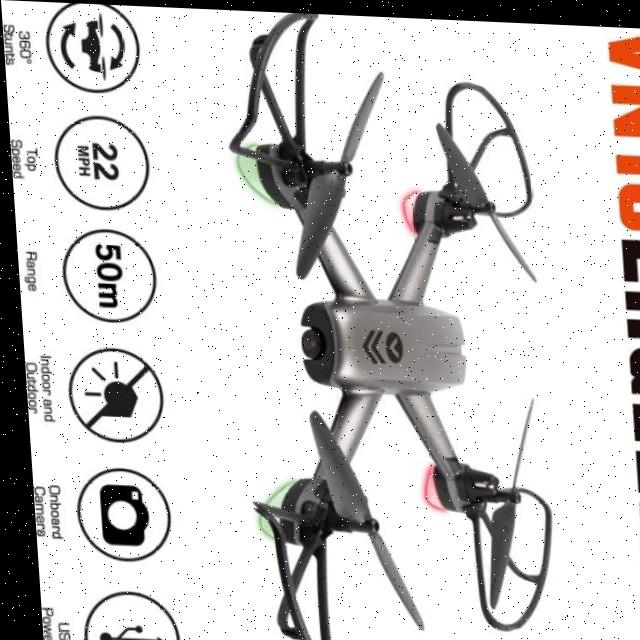drones: (167, 6, 569, 640)
